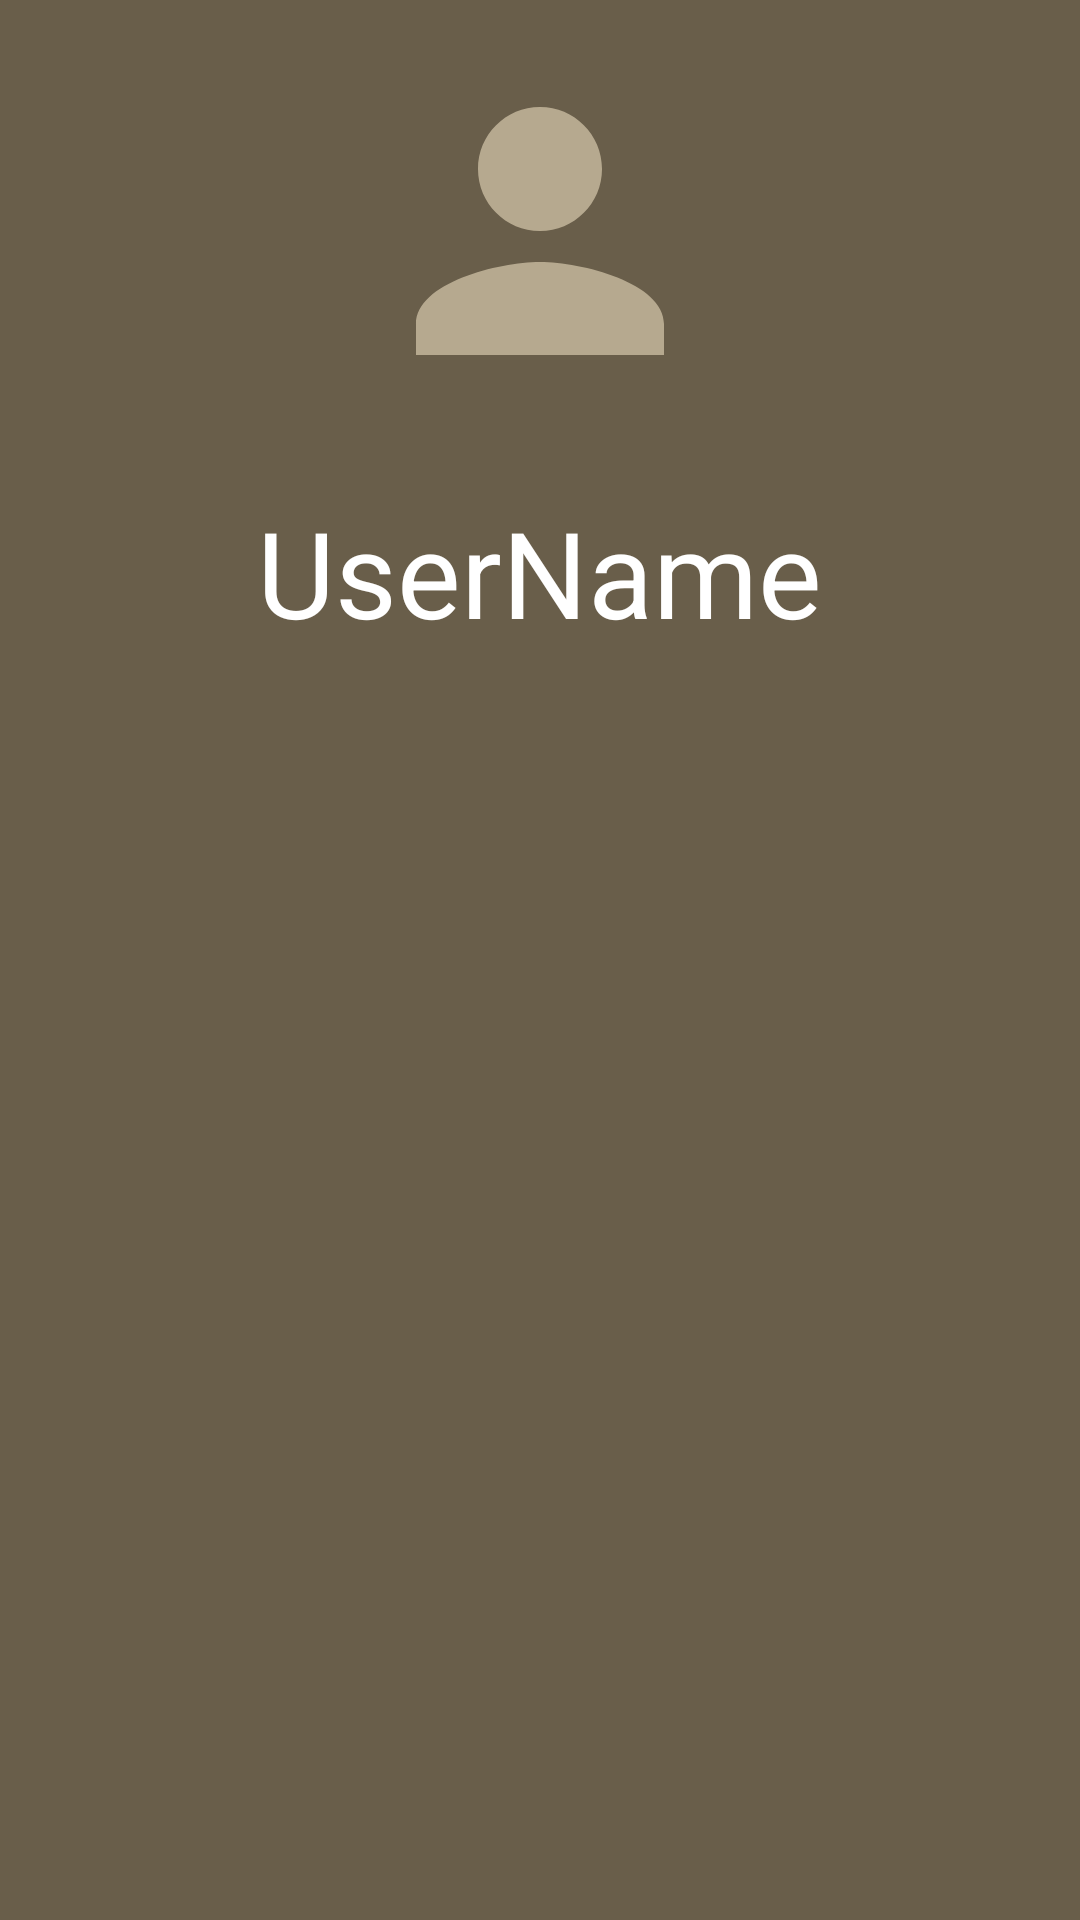

Named icons in this screenshot (1080 x 1920) and their bounding boxes, (x1,y1,x2,y2):
person: (416,107,664,355)
